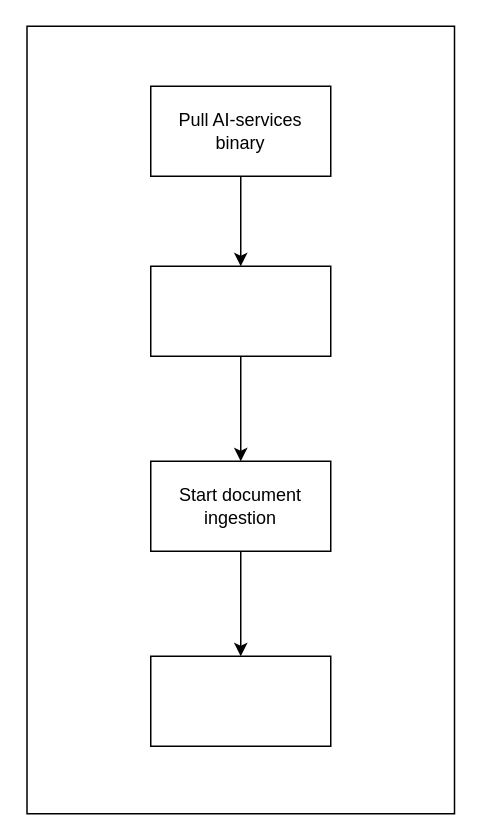
The diagram is 480 pixels wide and 840 high, and some of its shapes have lost their labels. Here are the shapes that lost their labels. From the top down, the centre of each, then its label:
the point at 240,310: Create app with RAG template
the point at 240,700: Access the chatbot
